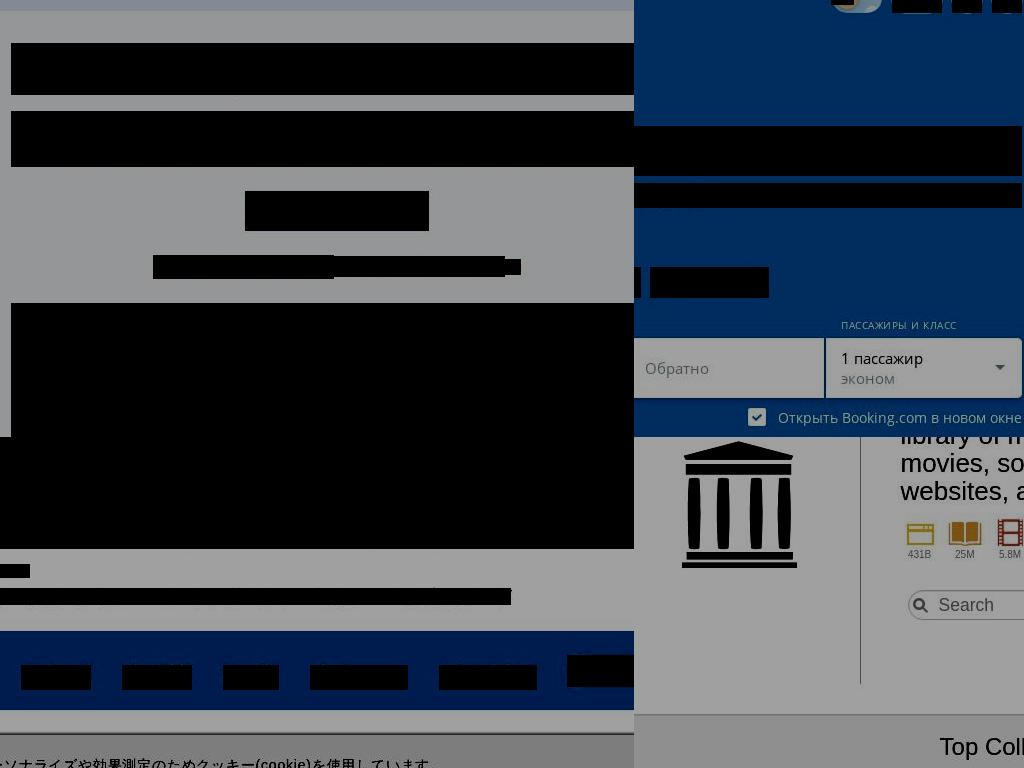button: (245, 191, 429, 231), (650, 267, 769, 298), (334, 259, 521, 275), (310, 665, 408, 690), (439, 665, 537, 690), (567, 655, 634, 687), (21, 665, 91, 690), (122, 665, 192, 690), (223, 665, 279, 690), (944, 514, 985, 544), (901, 514, 938, 544), (992, 514, 1024, 544), (892, 0, 942, 13), (952, 0, 982, 13)
field: (634, 337, 825, 398), (907, 590, 1024, 620)
heading: (11, 43, 634, 95), (634, 126, 1022, 176), (634, 734, 1024, 760)
image: (11, 303, 634, 437), (0, 437, 634, 549), (952, 0, 982, 13), (992, 0, 1022, 13), (831, 0, 854, 5), (509, 265, 521, 273)
label: (747, 407, 1022, 428)
link: (0, 588, 511, 605), (0, 564, 30, 578)
text: (634, 437, 860, 613), (11, 111, 634, 167), (900, 437, 1024, 684), (634, 183, 1022, 208), (0, 757, 445, 768), (153, 255, 334, 279), (334, 256, 505, 277), (841, 347, 1007, 368), (841, 367, 1007, 388), (841, 317, 957, 332), (947, 518, 982, 549), (904, 518, 935, 549), (995, 518, 1024, 549), (907, 549, 932, 560), (998, 549, 1022, 560), (955, 549, 975, 560), (903, 0, 931, 7)
